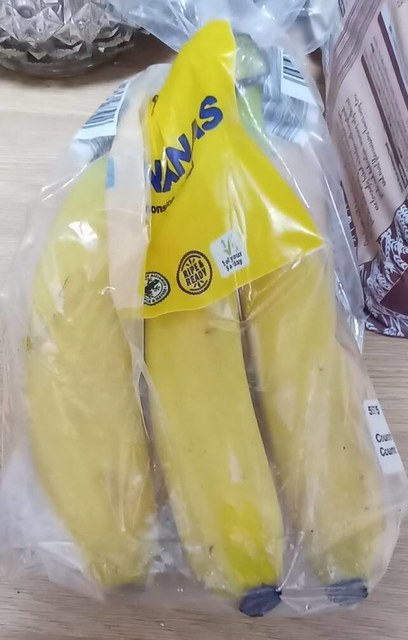Bananas: (20, 32, 388, 608)
